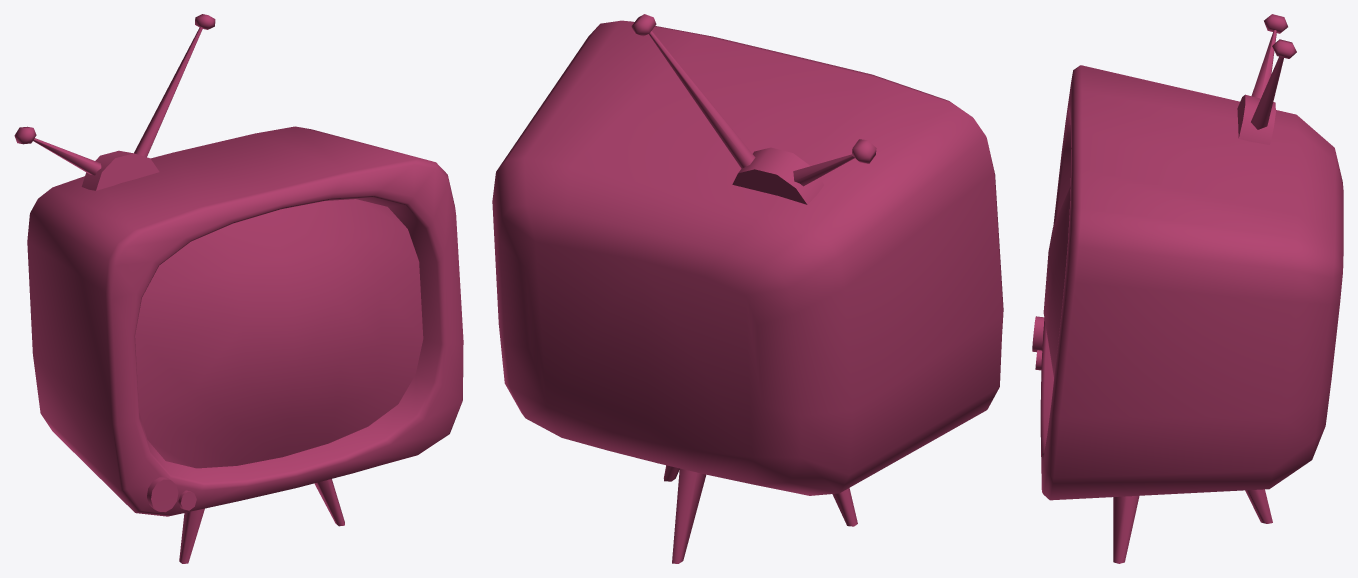
Rendered from Television.FBX.
3 views of the same model, side by side, from view 1: azimuth 30°, elevation 25°; view 2: azimuth 150°, elevation 25°; view 3: azimuth 270°, elevation 25° (orthographic). The views are drawn at different scales.
Visible parts, largest first — view 1: Television; view 2: Television; view 3: Television.
Boxes of the visible parts, x1,y1,x2,y2 form: Television: [14, 14, 463, 563]; Television: [492, 14, 1003, 563]; Television: [1032, 14, 1343, 563].
Bounding box in the file's own units: 94.8 × 120 × 69.19.
